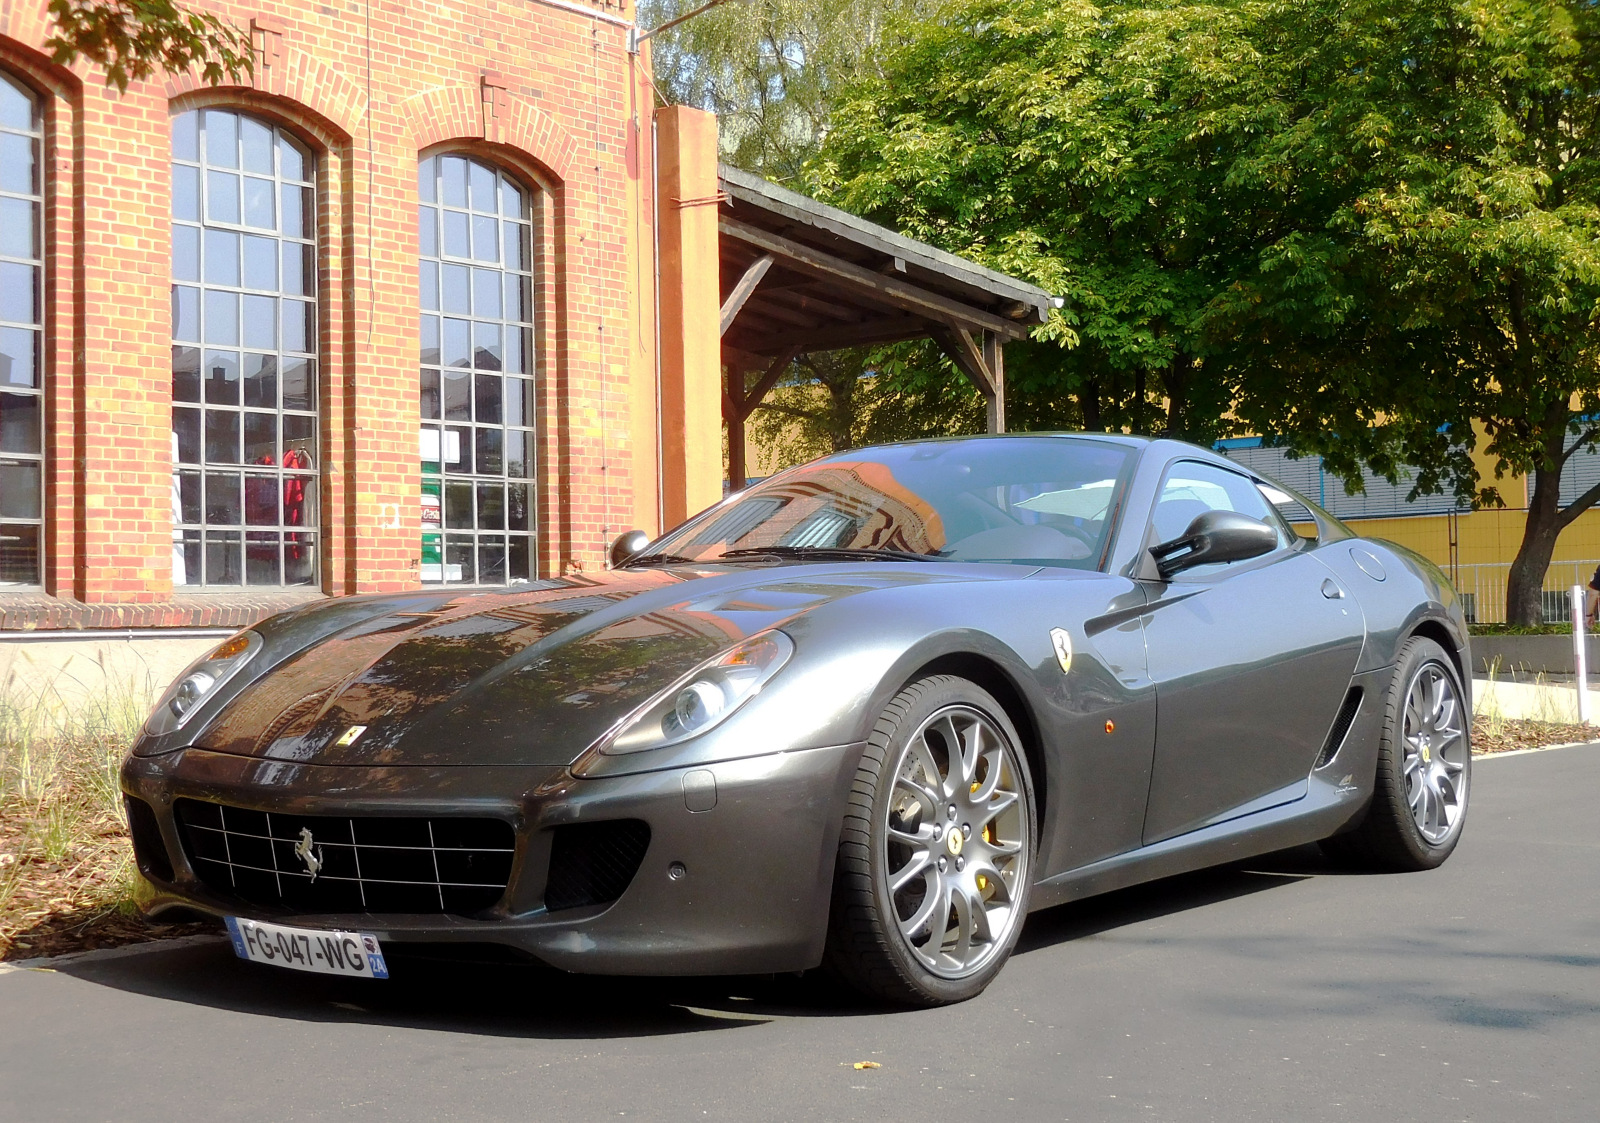licence plate: (218, 911, 392, 987)
